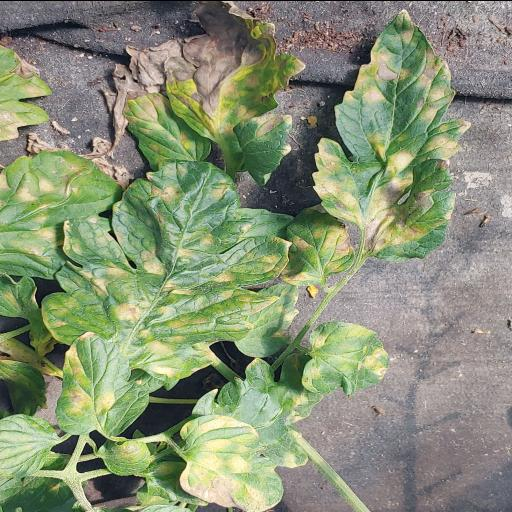Leaf Mold: (42, 156, 293, 380), (312, 8, 473, 260), (164, 0, 307, 187), (0, 148, 122, 278), (171, 412, 282, 510), (122, 90, 212, 172), (296, 320, 390, 393), (54, 331, 118, 435), (278, 202, 356, 285), (233, 281, 299, 357)
